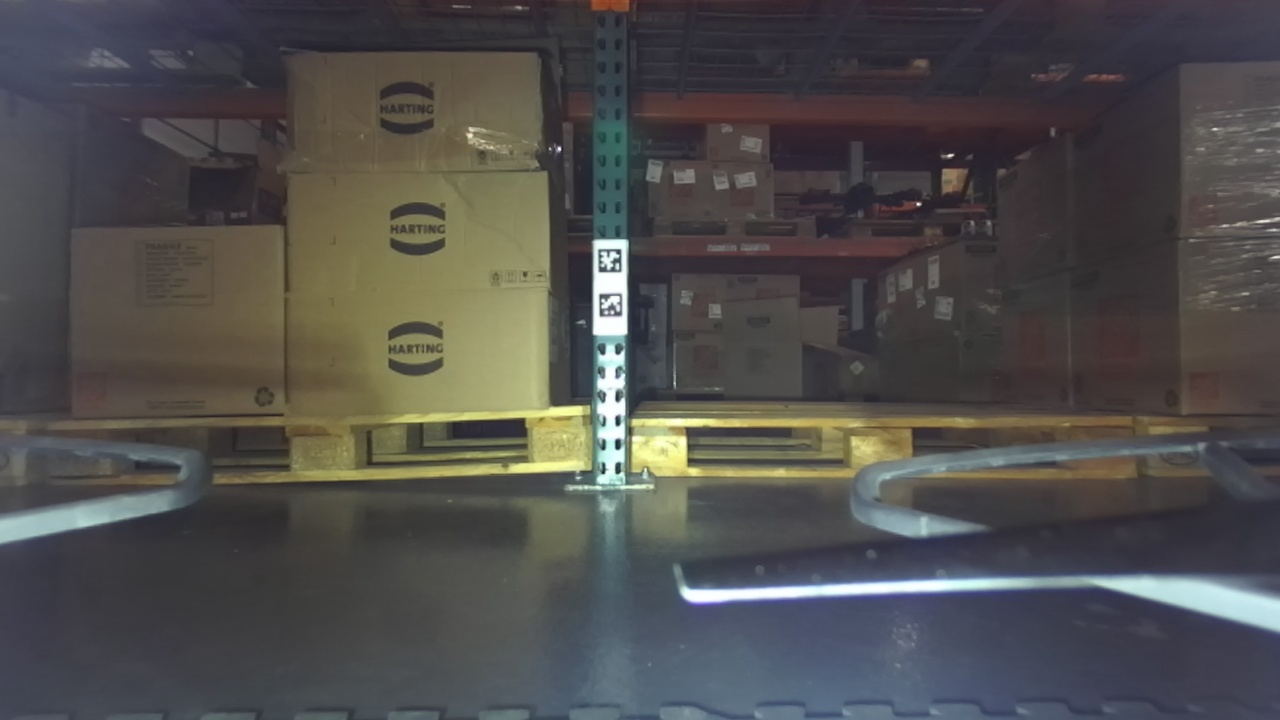box: (278, 45, 578, 216), (276, 168, 566, 333), (56, 223, 289, 428), (1065, 61, 1280, 275), (1068, 271, 1279, 472), (279, 307, 578, 439)
